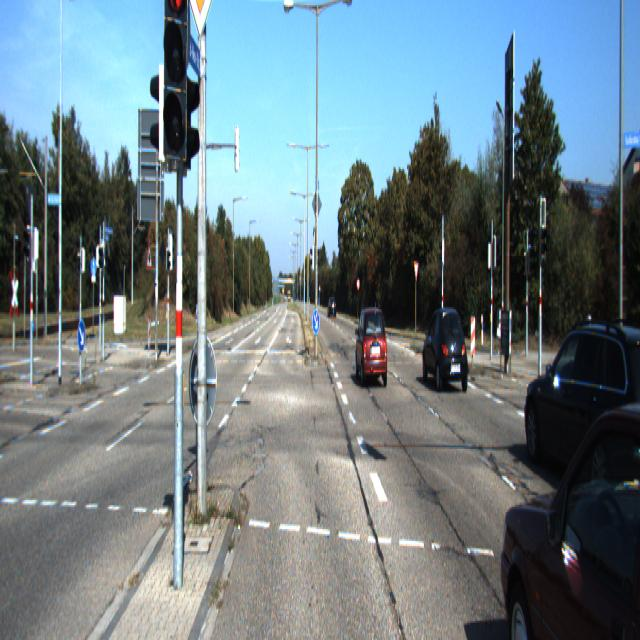Car: (498, 362, 639, 638), (524, 316, 640, 538), (422, 305, 469, 395), (355, 306, 388, 389)
DontCare: (327, 295, 336, 317)
